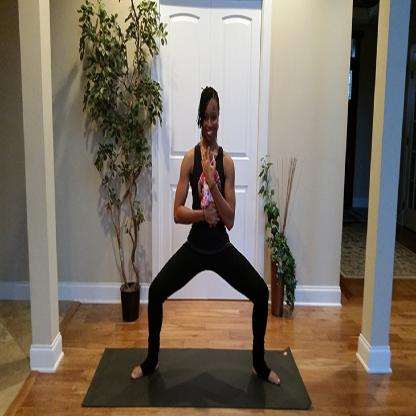godness: (126, 74, 284, 394)
